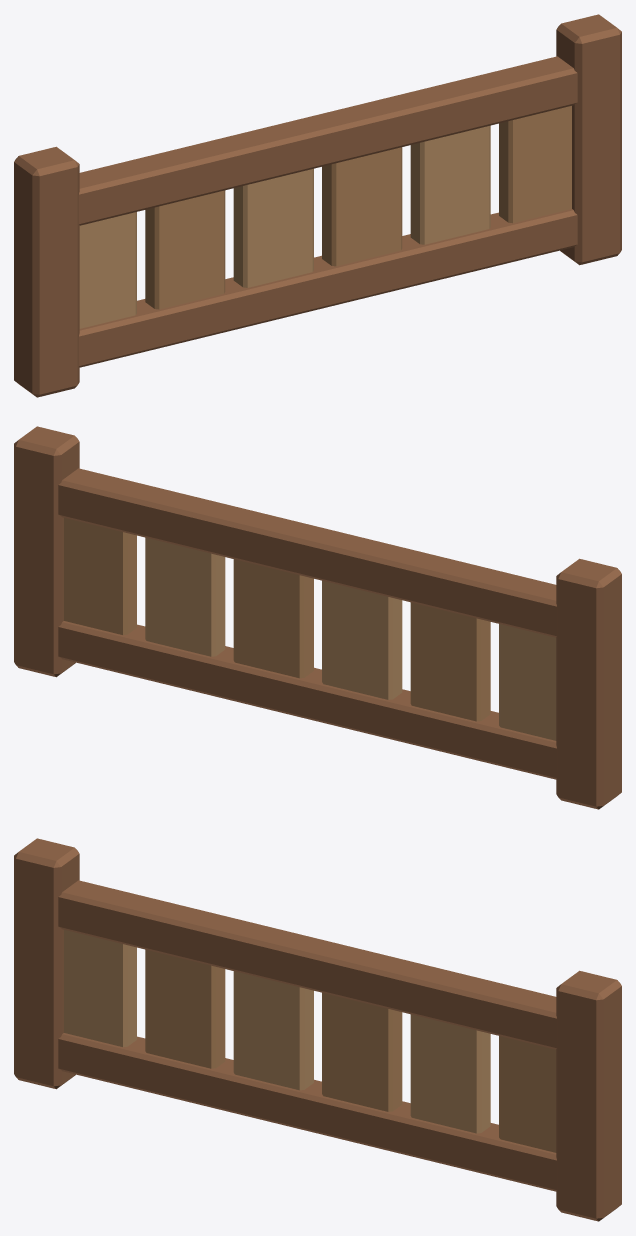
File: public_wall_parapet_2m.glb
3 renders of one model, top to bottom at view 1: azimuth 30°, elevation 25°; view 2: azimuth 150°, elevation 25°; view 3: azimuth 330°, elevation 25°, orthographic.
Visible parts, largest first — view 1: public_wall_parapet_2m; view 2: public_wall_parapet_2m; view 3: public_wall_parapet_2m.
Part boxes in pixels (left/top/right/bottom): public_wall_parapet_2m: left=14, top=14, right=621, bottom=397; public_wall_parapet_2m: left=14, top=426, right=621, bottom=809; public_wall_parapet_2m: left=14, top=838, right=621, bottom=1221.
Size of the model in its own units: 2 by 0.74 by 0.14.
